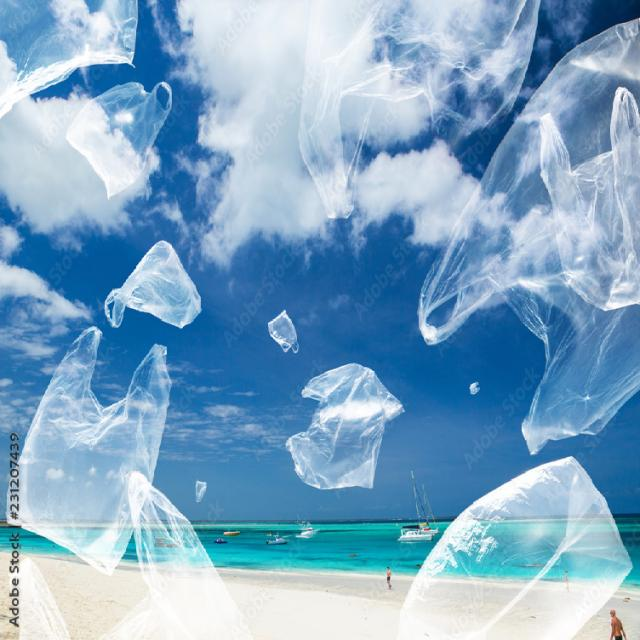Single-layer Plastic: (419, 19, 640, 454), (299, 0, 539, 218), (398, 458, 631, 639), (8, 328, 171, 573), (100, 471, 252, 639), (540, 88, 640, 310), (1, 0, 138, 117), (286, 364, 404, 489), (66, 82, 171, 197), (105, 241, 201, 328), (268, 310, 298, 352)
